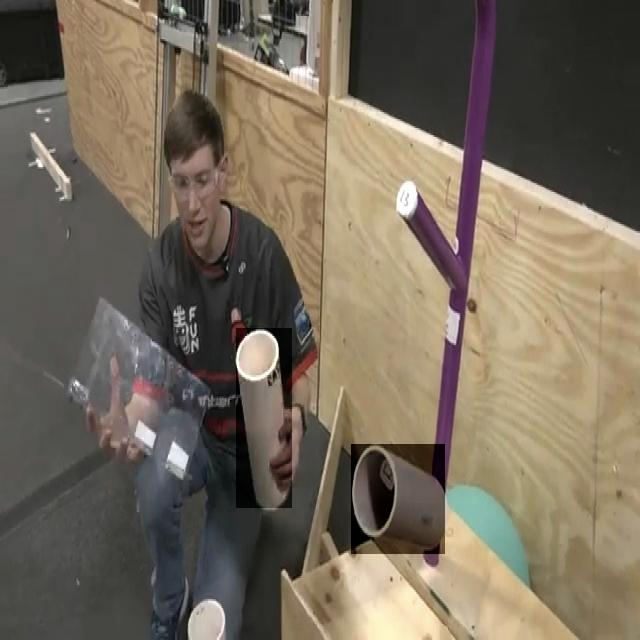Coral: (351, 444, 445, 554), (236, 328, 292, 508)
